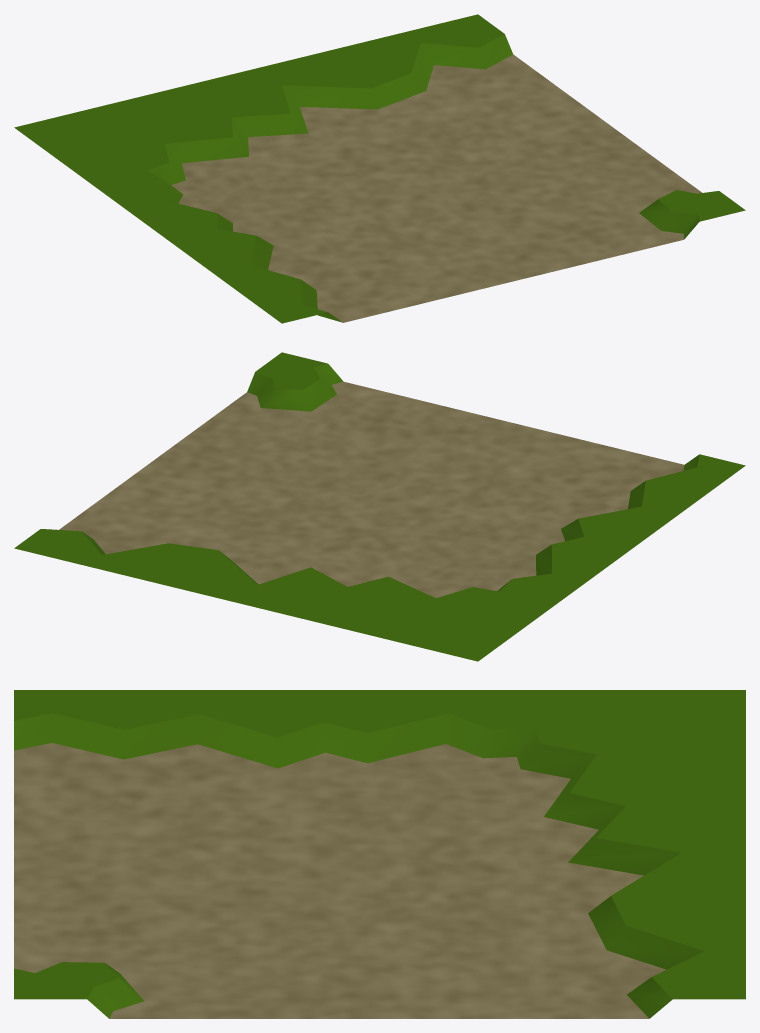
The model's file is tile2.fbx.
3 renders of one model, top to bottom at view 1: azimuth 30°, elevation 25°; view 2: azimuth 150°, elevation 25°; view 3: azimuth 270°, elevation 25°, orthographic. The views are drawn at different scales.
Visible parts, largest first — view 1: Plane.001; view 2: Plane.001; view 3: Plane.001.
Boxes of the visible parts, x1,y1,x2,y2 form: Plane.001: (14,14,745,323); Plane.001: (14,352,745,661); Plane.001: (14,690,745,1018).
Size of the model in its own units: 100 by 2.94 by 100.
